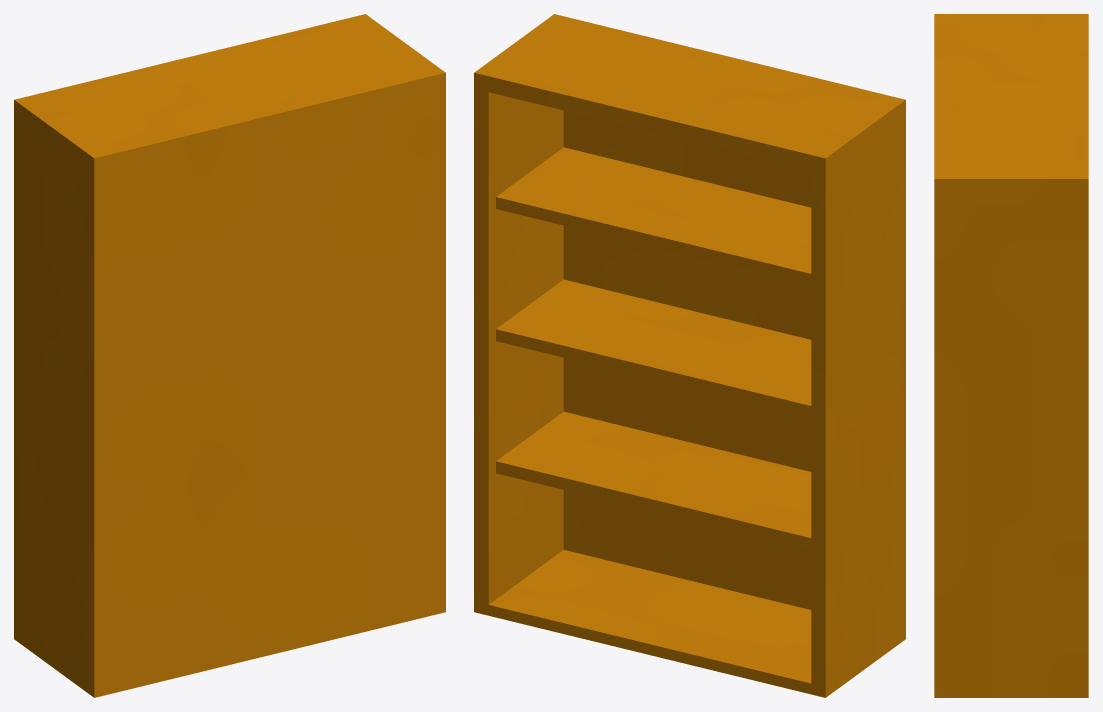
File: Shelf_1.fbx
3 renders of one model, left to right at view 1: azimuth 30°, elevation 25°; view 2: azimuth 150°, elevation 25°; view 3: azimuth 270°, elevation 25°, orthographic. The views are drawn at different scales.
Parts seen in each view (by area): view 1: Shelf 1; view 2: Shelf 1; view 3: Shelf 1.
Boxes of the visible parts, bbox=[...] form: Shelf 1: bbox=[14, 14, 445, 697]; Shelf 1: bbox=[474, 14, 905, 697]; Shelf 1: bbox=[934, 14, 1088, 697].
Size of the model in its own units: 114 by 167 by 45.09.
